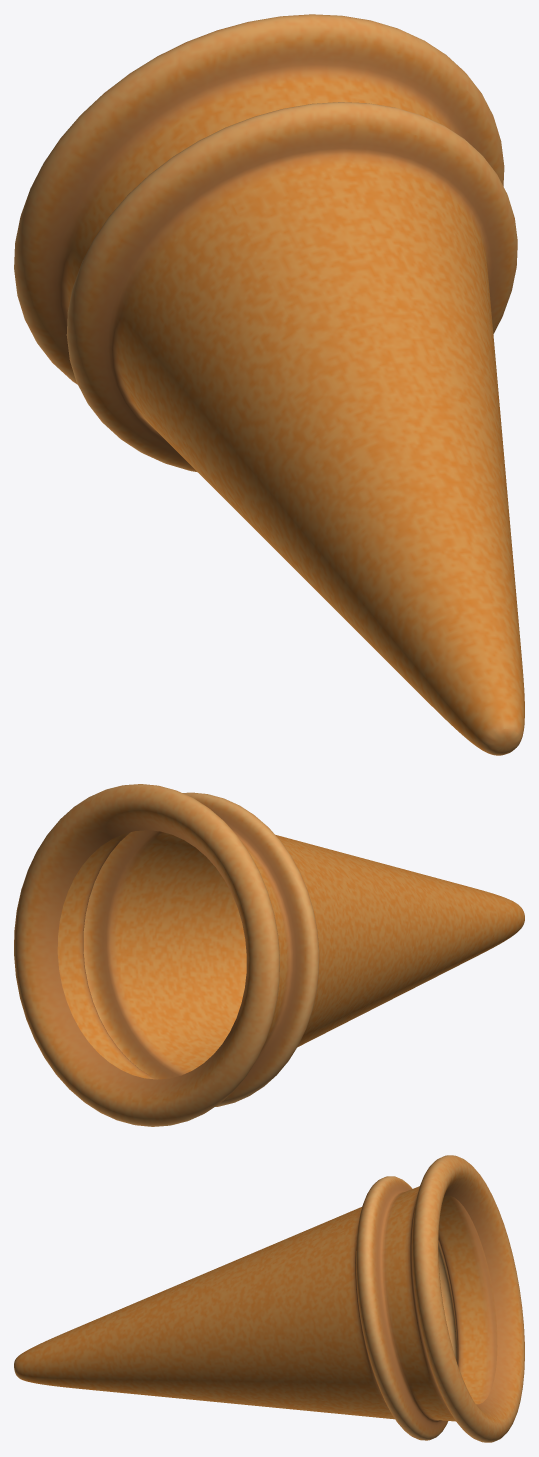
The picture shows the model from 3 angles, top to bottom: view 1: azimuth 30°, elevation 25°; view 2: azimuth 150°, elevation 25°; view 3: azimuth 270°, elevation 25°; orthographic projection. The views are drawn at different scales.
Parts seen in each view (by area): view 1: Cylinder.413; view 2: Cylinder.413; view 3: Cylinder.413.
Part boxes in pixels (box(x1,y1,x2,y2)): Cylinder.413: box(14, 14, 524, 755); Cylinder.413: box(14, 784, 524, 1126); Cylinder.413: box(14, 1155, 524, 1442).
Bounding box in the file's own units: 2.22 × 2.22 × 3.96.
Materials: 1 (1 with a texture image).
